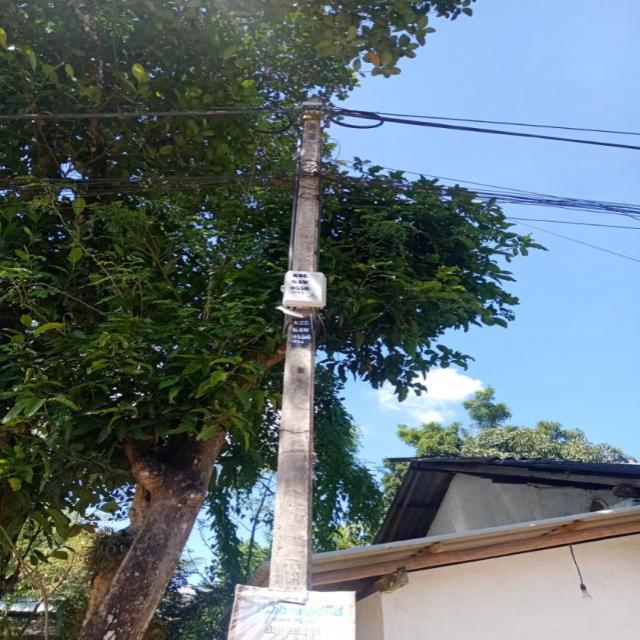light_pole: (259, 97, 338, 640)
